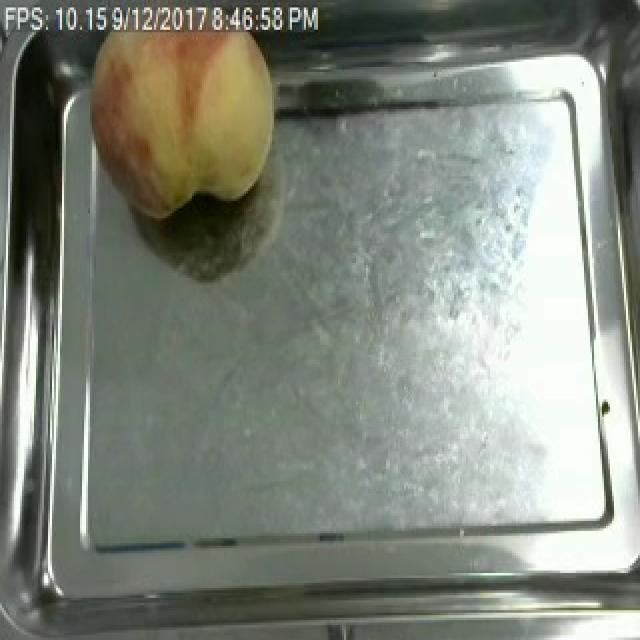Fruit: (76, 5, 286, 226)
